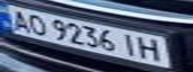2: (63, 20, 84, 46)
3: (81, 24, 100, 49)
6: (97, 27, 118, 53)
9: (45, 16, 69, 42)
A: (3, 7, 33, 33)
H: (136, 35, 166, 62)
I: (118, 32, 142, 57)
O: (24, 11, 51, 37)
